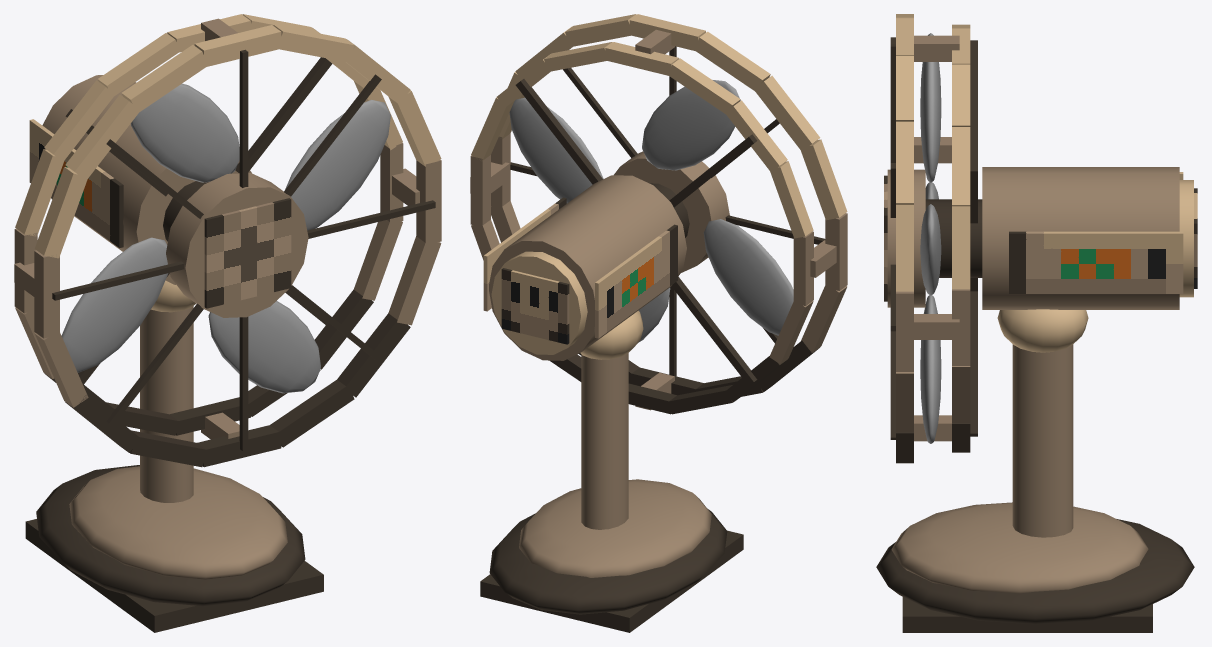
Rendered from CMU3DTanDeskFanSouth.glb.
3 views of the same model, side by side, from view 1: azimuth 30°, elevation 25°; view 2: azimuth 150°, elevation 25°; view 3: azimuth 270°, elevation 25° (orthographic). The views are drawn at different scales.
Visible parts, largest first — view 1: raised base upper casting, weighted tan base, original patterned front hub, front bronze rotor hub, stationary rotor blade 3, stationary rotor blade 2, pedestal stem, stationary rotor blade 1, stationary rotor blade 4, rear motor body, flat load-bearing foot, original left Weyland-Yutani motor label (+42 smaller); view 2: raised base upper casting, rear motor body, weighted tan base, pedestal stem, stationary rotor blade 3, stationary rotor blade 2, original left Weyland-Yutani motor label, stationary rotor blade 1, original rear motor vents, front bronze rotor hub, rear motor cover, flat load-bearing foot (+37 smaller); view 3: rear motor body, raised base upper casting, weighted tan base, pedestal stem, original right Weyland-Yutani motor label, flat load-bearing foot, pedestal top collar, stationary rotor blade 2, front bronze rotor hub, stationary rotor blade 4, shaft housing, rear cage rim 2 (+25 smaller).
Boxes of the visible parts, x1,y1,x2,y2 form: raised base upper casting: (69, 466, 287, 579); weighted tan base: (36, 465, 305, 606); original patterned front hub: (204, 198, 291, 308); front bronze rotor hub: (166, 173, 308, 317); stationary rotor blade 3: (61, 237, 168, 372); stationary rotor blade 2: (130, 83, 239, 182); pedestal stem: (140, 306, 193, 502); stationary rotor blade 1: (285, 99, 390, 230); stationary rotor blade 4: (208, 301, 320, 393); rear motor body: (42, 75, 251, 284); flat load-bearing foot: (25, 519, 323, 632); original left Weyland-Yutani motor label: (29, 119, 123, 248); raised base upper casting: (519, 479, 711, 577); rear motor body: (489, 175, 686, 360); weighted tan base: (489, 509, 727, 614); pedestal stem: (581, 353, 628, 529); stationary rotor blade 3: (703, 219, 793, 335); stationary rotor blade 2: (642, 80, 740, 170); original left Weyland-Yutani motor label: (595, 224, 677, 338); stationary rotor blade 1: (509, 97, 603, 203); original rear motor vents: (501, 268, 569, 344); front bronze rotor hub: (614, 151, 729, 272); rear motor cover: (491, 251, 587, 354); flat load-bearing foot: (480, 530, 743, 632); rear motor body: (982, 167, 1179, 309); raised base upper casting: (891, 502, 1148, 593); weighted tan base: (876, 519, 1194, 624); pedestal stem: (1012, 344, 1073, 537); original right Weyland-Yutani motor label: (1009, 231, 1183, 293); flat load-bearing foot: (902, 597, 1152, 632); pedestal top collar: (997, 309, 1088, 352); stationary rotor blade 2: (920, 33, 941, 182); front bronze rotor hub: (887, 169, 925, 307); stationary rotor blade 4: (920, 295, 941, 443); shaft housing: (925, 199, 982, 277); rear cage rim 2: (952, 206, 970, 289).
Size of the model in its own units: 0.588 by 0.8096 by 0.424.
8 materials, 4 textured.
